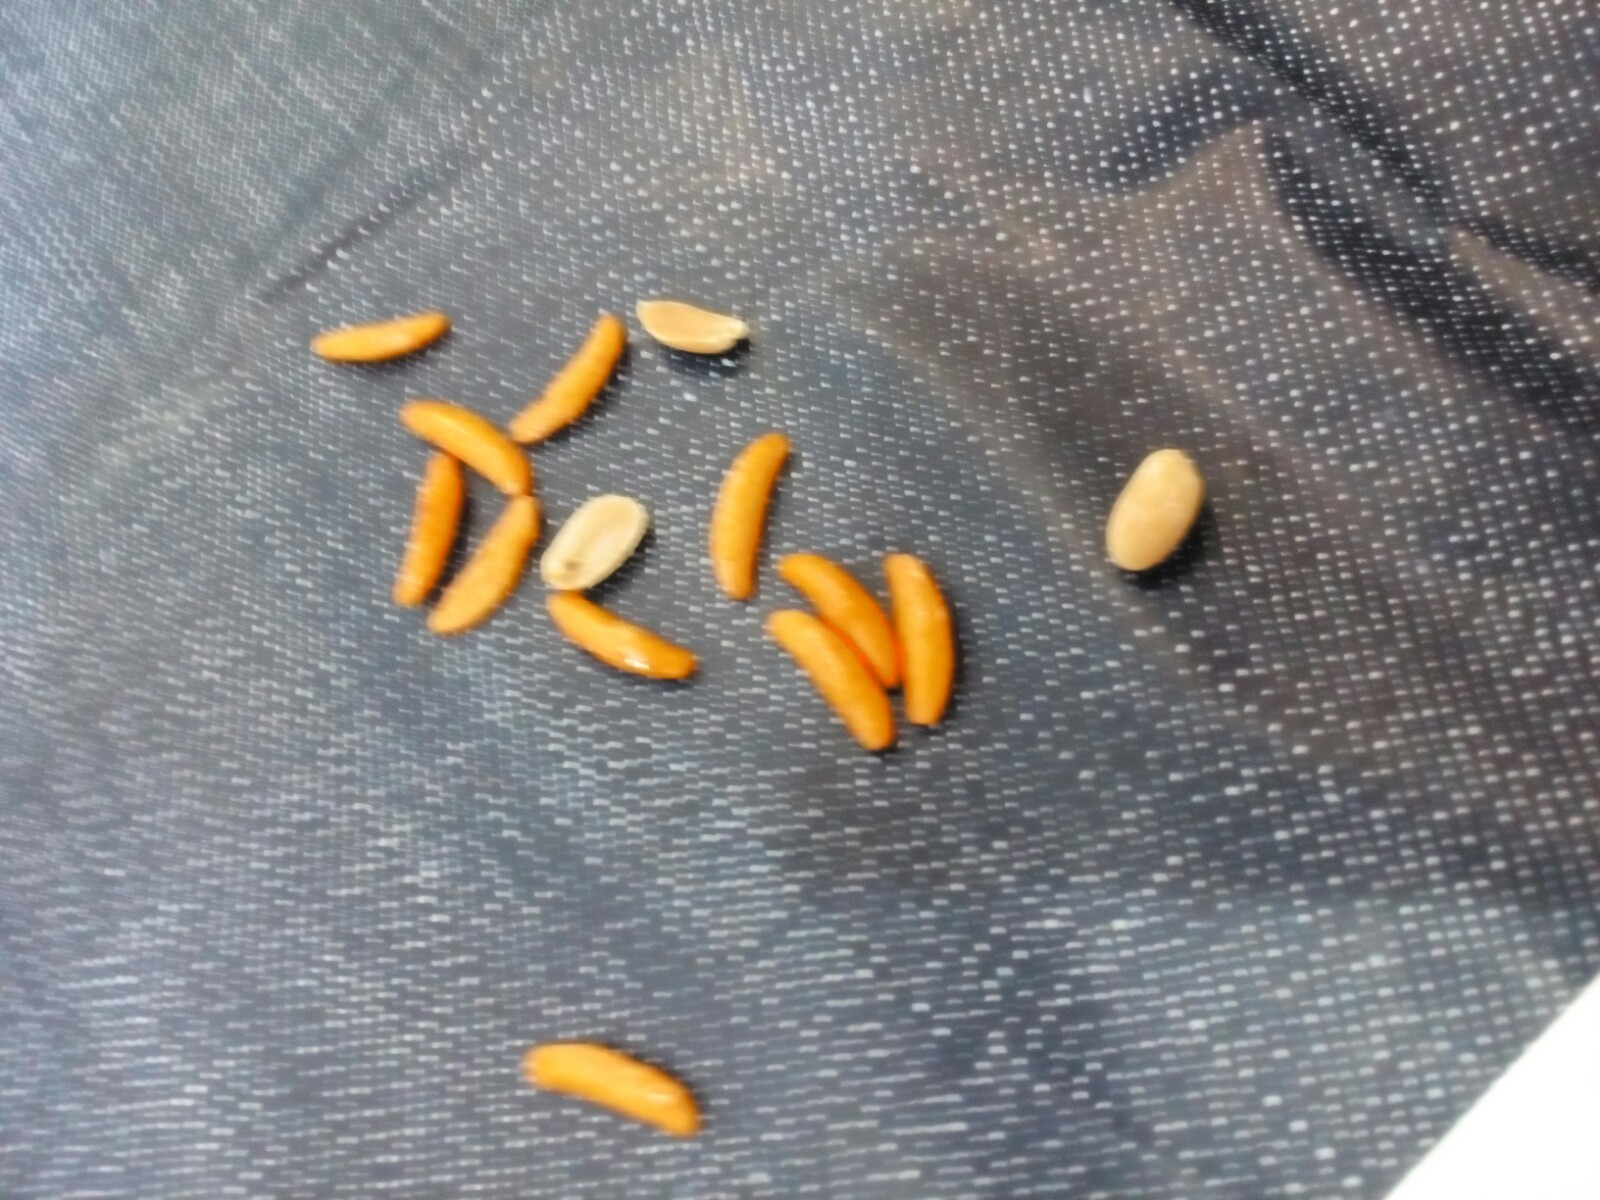peanut: (1095, 446, 1216, 579), (532, 488, 660, 606), (625, 284, 753, 363)
